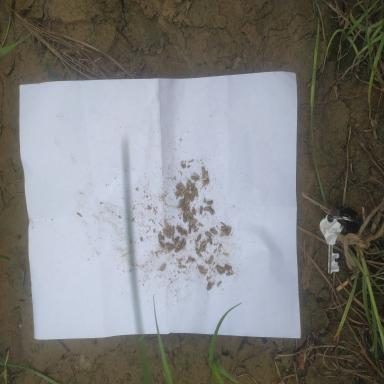pbw: (206, 279, 213, 291), (187, 218, 197, 226), (158, 262, 166, 271), (179, 188, 186, 198), (221, 226, 228, 236), (186, 178, 193, 188), (226, 226, 232, 237), (201, 178, 209, 186), (210, 226, 217, 235), (159, 232, 165, 242), (189, 183, 195, 193), (190, 174, 198, 181), (175, 188, 182, 196), (159, 240, 165, 249), (204, 169, 209, 179), (190, 190, 195, 200), (166, 223, 171, 233), (193, 171, 199, 179), (179, 185, 187, 191), (199, 240, 207, 246), (164, 243, 172, 249), (216, 280, 222, 288), (176, 226, 182, 234), (174, 247, 182, 253), (203, 231, 212, 236), (182, 212, 186, 223), (178, 238, 184, 245), (196, 249, 202, 256), (186, 209, 192, 216), (178, 200, 184, 207), (180, 206, 186, 213), (217, 266, 222, 274), (192, 206, 196, 216), (209, 254, 213, 264), (208, 234, 212, 244), (206, 199, 214, 204), (201, 166, 206, 174), (194, 239, 198, 248), (170, 236, 176, 242), (180, 163, 186, 169), (220, 226, 226, 232), (174, 236, 180, 242), (189, 256, 195, 262), (192, 224, 197, 231), (176, 181, 181, 188), (175, 241, 180, 248), (186, 216, 193, 221), (226, 272, 234, 276), (194, 188, 198, 196), (171, 226, 175, 234), (209, 210, 214, 216), (188, 158, 194, 163), (199, 205, 202, 215), (197, 234, 201, 241), (225, 263, 229, 270), (222, 252, 229, 256), (199, 247, 206, 251), (220, 221, 225, 226), (77, 212, 82, 217), (204, 207, 210, 211), (202, 269, 208, 273), (188, 226, 191, 234), (186, 182, 189, 190), (198, 222, 204, 226), (177, 258, 182, 262)
